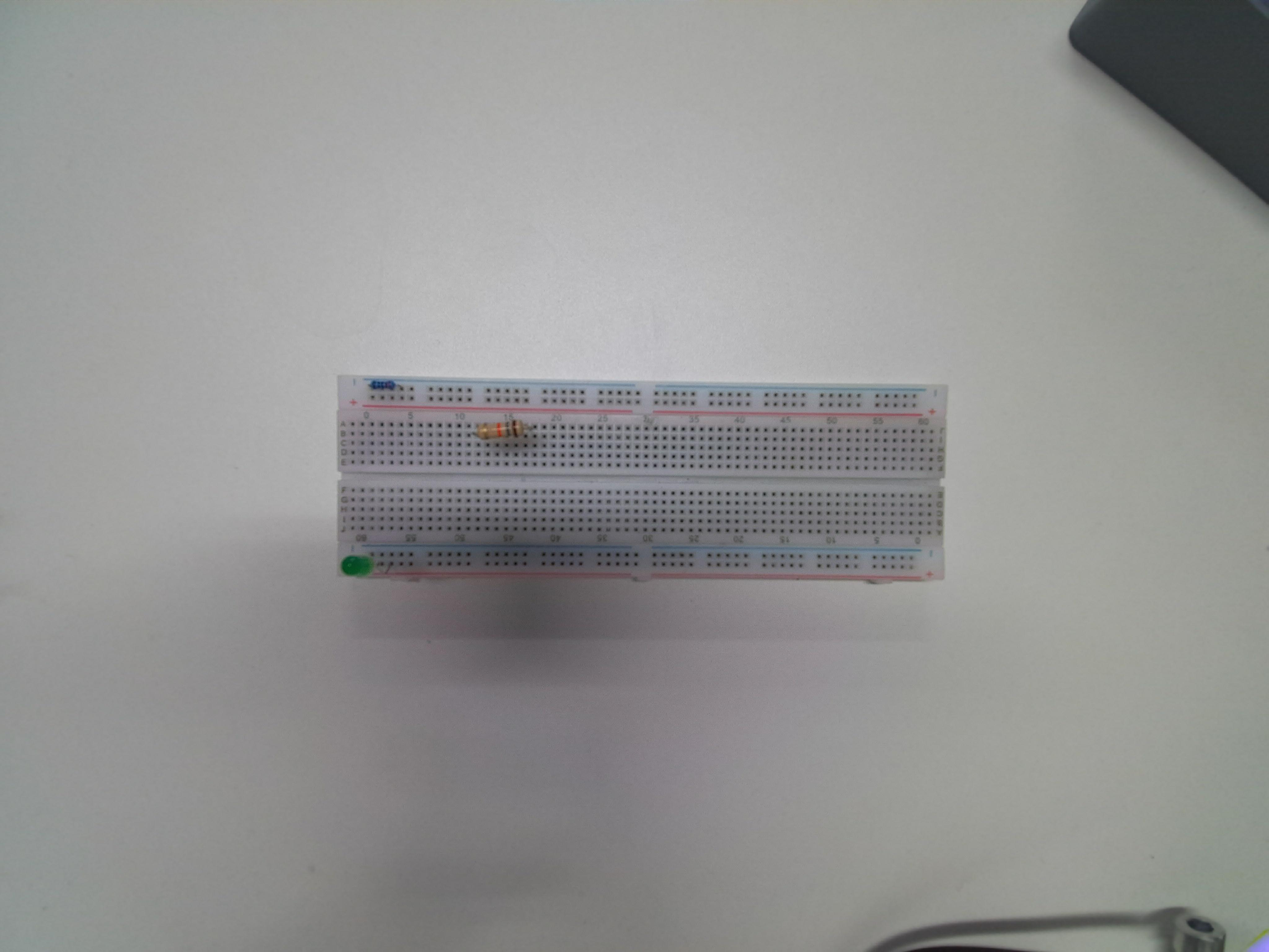base: (336, 380, 951, 586)
green-led: (336, 553, 377, 580)
resistor-big: (475, 417, 525, 440)
resistor-small: (366, 375, 395, 395)
